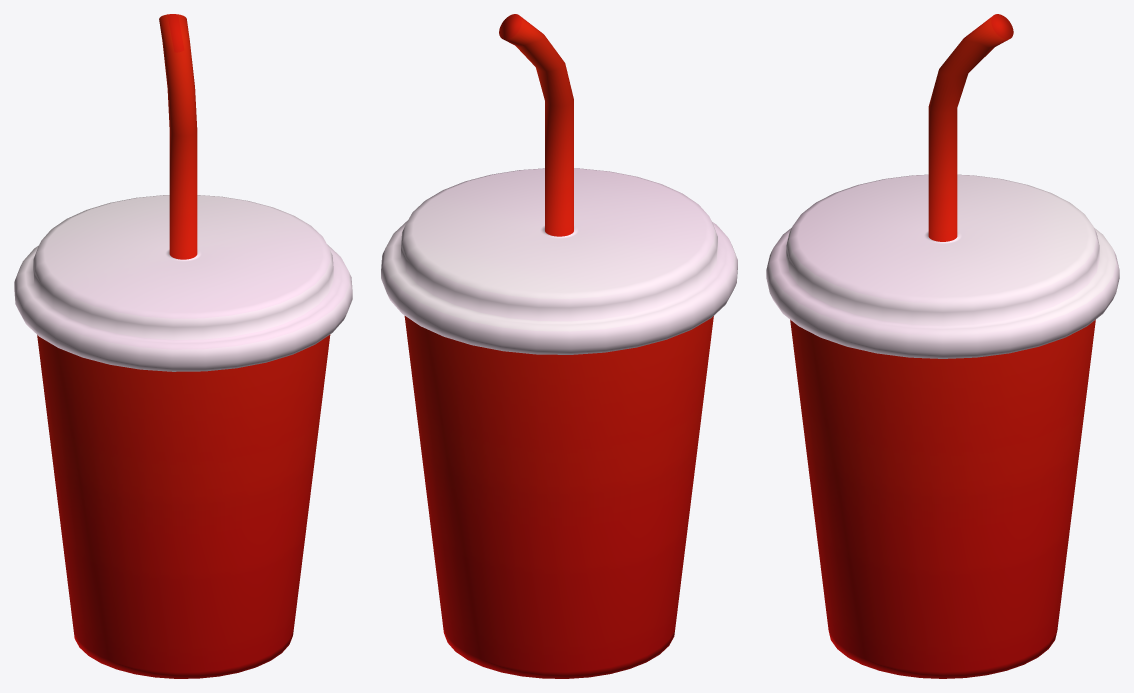
Rendered from Cola.fbx.
3 views of the same model, side by side, from view 1: azimuth 30°, elevation 25°; view 2: azimuth 150°, elevation 25°; view 3: azimuth 270°, elevation 25° (orthographic). The views are drawn at different scales.
Visible parts, largest first — view 1: Cola; view 2: Cola; view 3: Cola.
Part boxes in pixels (left/top/right/bottom): Cola: left=14, top=14, right=352, bottom=678; Cola: left=381, top=14, right=737, bottom=678; Cola: left=766, top=14, right=1119, bottom=678.
Bounding box in the file's own units: 142 × 275 × 142.
